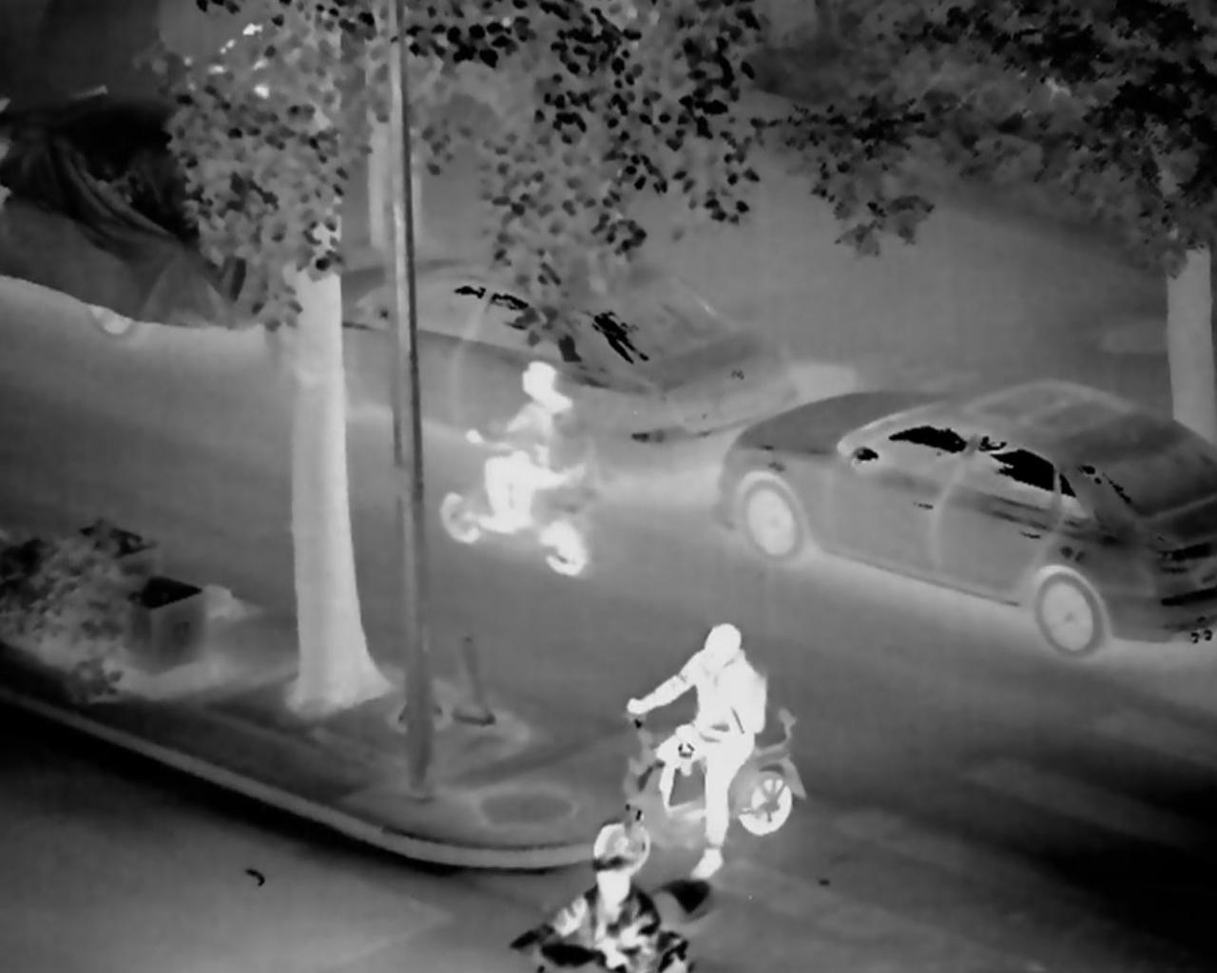person: (627, 627, 842, 888), (460, 365, 591, 603), (503, 853, 752, 973)
